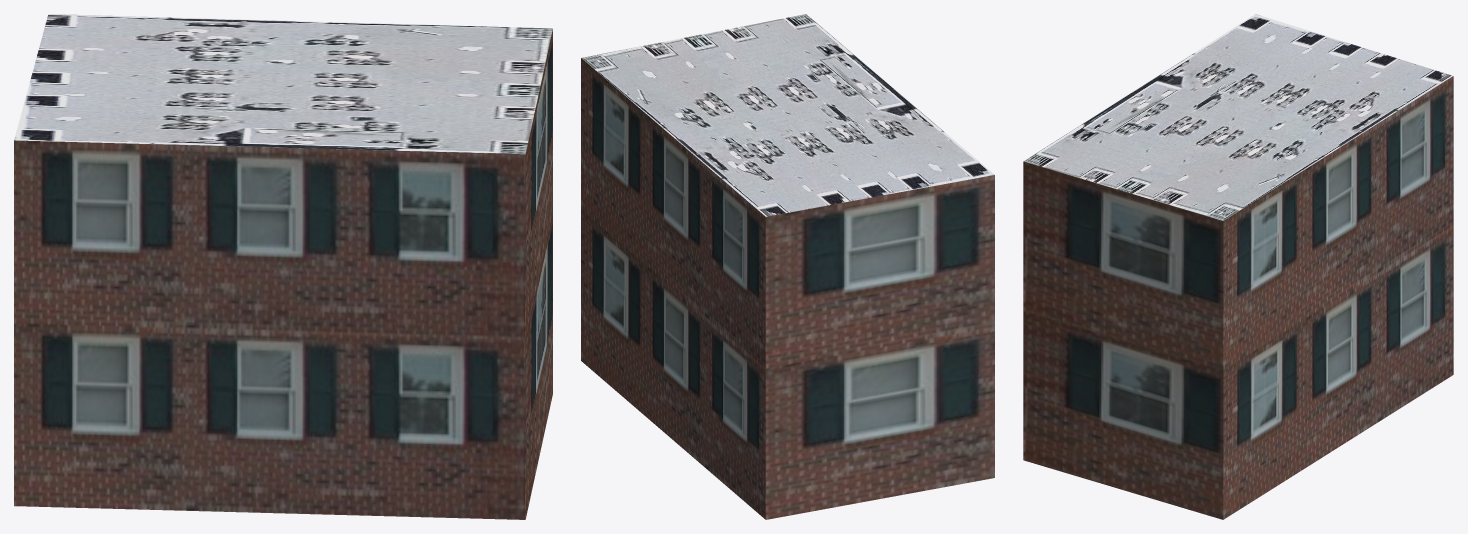
The model's file is ResTex__5199.fbx.
3 renders of one model, left to right at view 1: azimuth 30°, elevation 25°; view 2: azimuth 150°, elevation 25°; view 3: azimuth 270°, elevation 25°, orthographic. The views are drawn at different scales.
Parts seen in each view (by area): view 1: CityEngineMaterial_14_m, CityEngineMaterial_m; view 2: CityEngineMaterial_14_m, CityEngineMaterial_m; view 3: CityEngineMaterial_14_m, CityEngineMaterial_m.
Boxes of the visible parts, x1,y1,x2,y2 form: CityEngineMaterial_14_m: [14, 29, 552, 519]; CityEngineMaterial_m: [14, 14, 552, 154]; CityEngineMaterial_14_m: [581, 58, 994, 519]; CityEngineMaterial_m: [581, 14, 994, 216]; CityEngineMaterial_14_m: [1023, 76, 1453, 519]; CityEngineMaterial_m: [1024, 14, 1452, 220].
Size of the model in its own units: 8.91 by 6 by 7.82.
Materials: 2 (2 with a texture image).
